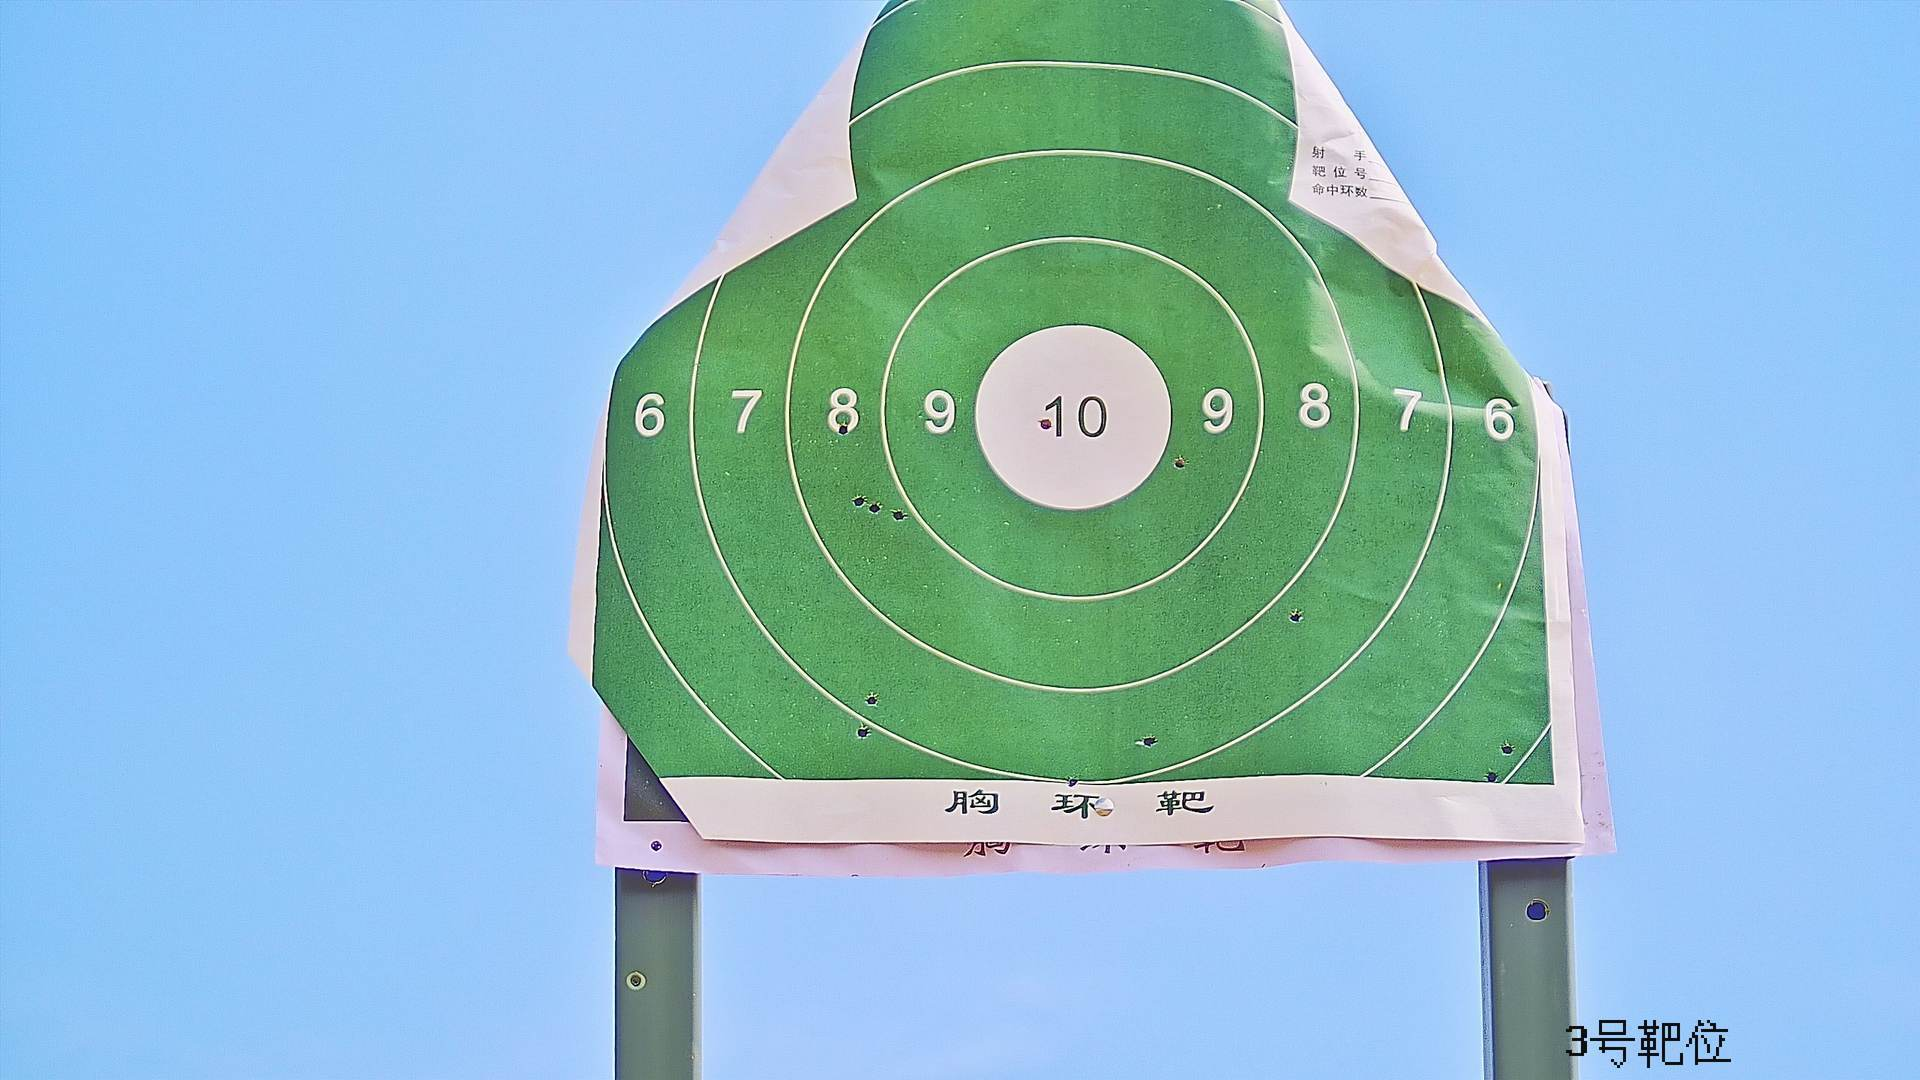hole: (891, 506, 906, 522), (855, 723, 872, 736), (1501, 741, 1514, 757), (1142, 735, 1158, 746), (1288, 611, 1302, 624), (869, 501, 882, 513), (1486, 769, 1499, 781), (1040, 419, 1052, 430), (852, 495, 864, 505), (866, 694, 877, 705), (1067, 775, 1077, 787), (837, 422, 847, 435), (1174, 456, 1183, 469)
kernel: (1069, 415, 1073, 419)
target: (597, 7, 1557, 786)
ten: (972, 324, 1182, 513)
